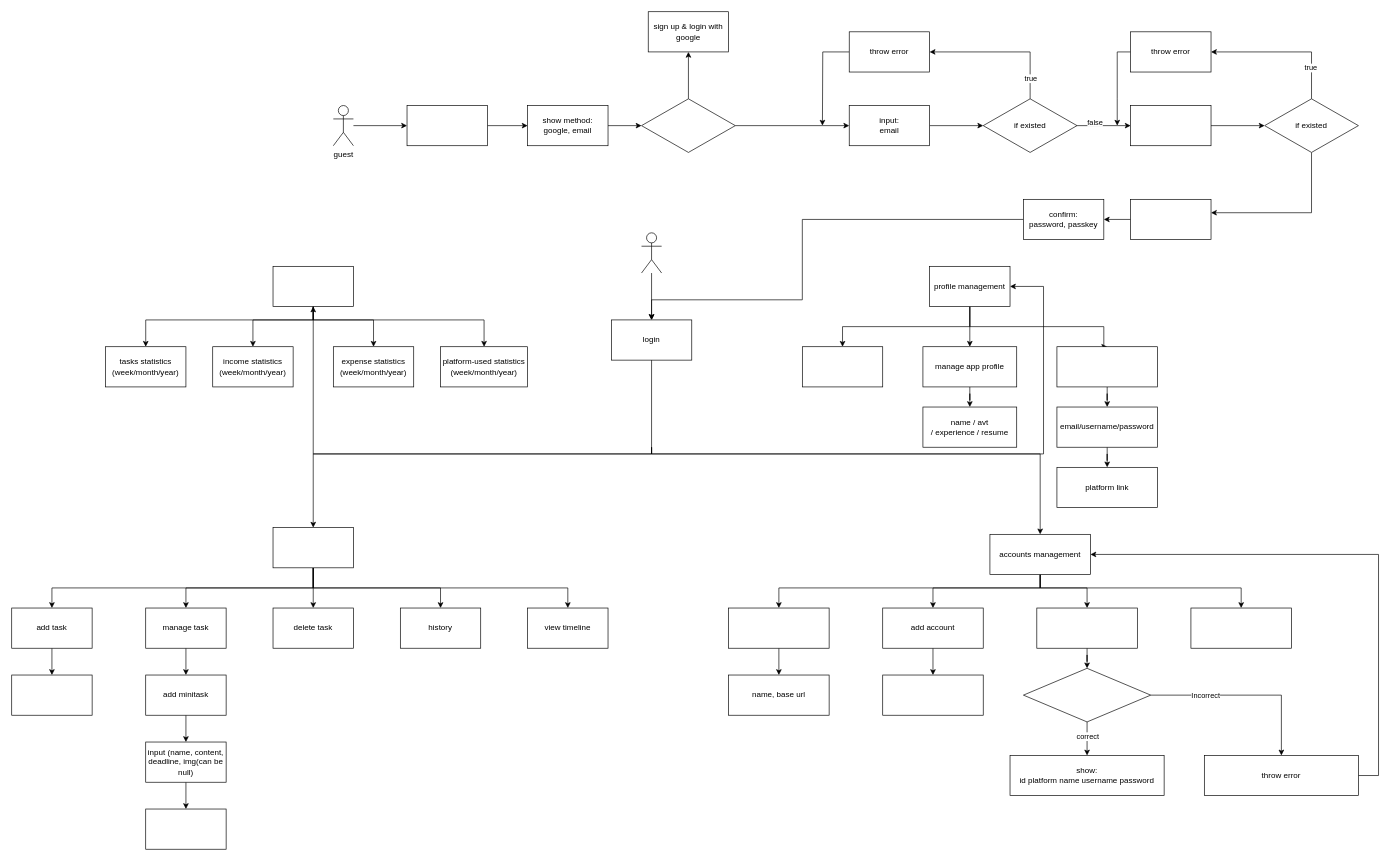
The diagram is 1396 pixels wide and 861 high, and some of its shapes have lost their labels. Each missing label, with the centre of its shape:
account setting: (x=1106, y=366)
add plaform categories: (x=778, y=627)
add portfolio link: (x=842, y=366)
delete account: (x=1240, y=627)
input (name, price, content, deadline, img(can be null): (x=51, y=694)
input passkey: (x=1087, y=695)
input: password, passkey: (x=1170, y=219)
input: username: (x=1170, y=125)
isDone? (tick): (x=185, y=828)
method: (x=688, y=125)
plaform, name, username, password: (x=932, y=694)
register: (x=446, y=125)
statistics overview: (x=312, y=286)
task management: (x=312, y=547)
user: (x=651, y=252)
view total accounts: (x=1086, y=627)
